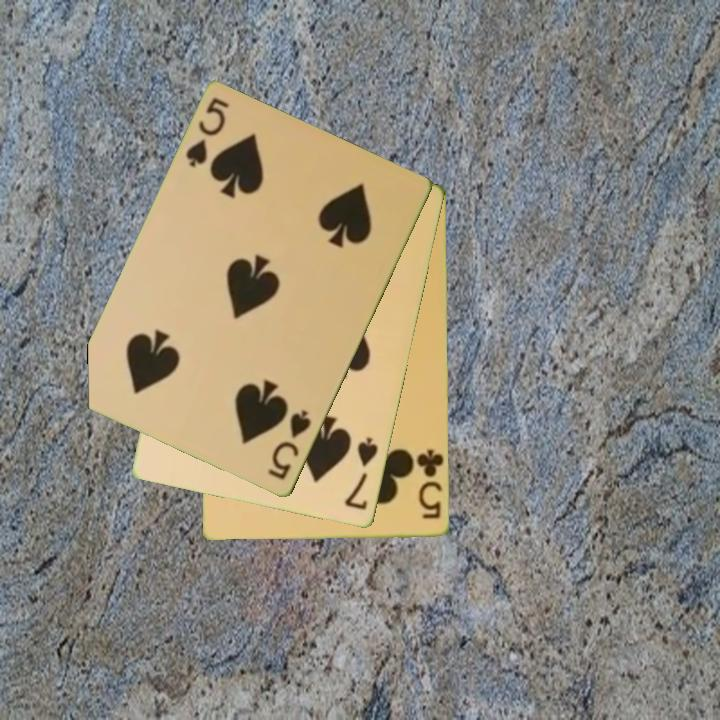5c: (411, 446, 446, 522)
5s: (182, 95, 233, 171), (265, 406, 315, 483)
7s: (341, 434, 381, 513)
